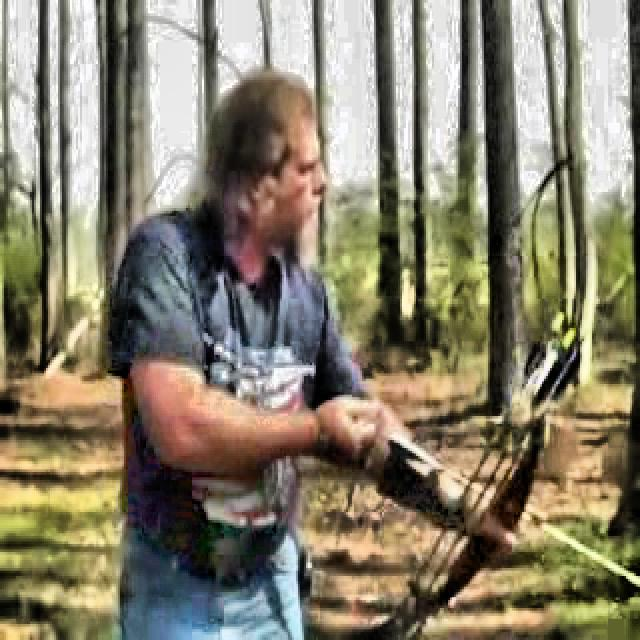I: (86, 43, 573, 590)
